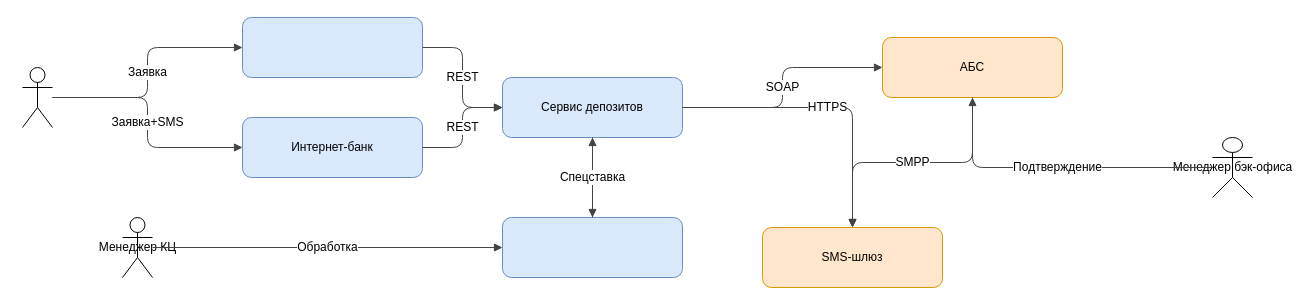
Image size: 1310x305. Some labels were removed from this diagram. Here are the shapes that lost their labels. From the top down, the box of each, then its label:
(242, 16, 422, 78): Сайт
(22, 66, 52, 128): Клиент
(502, 216, 682, 278): Система КЦ
